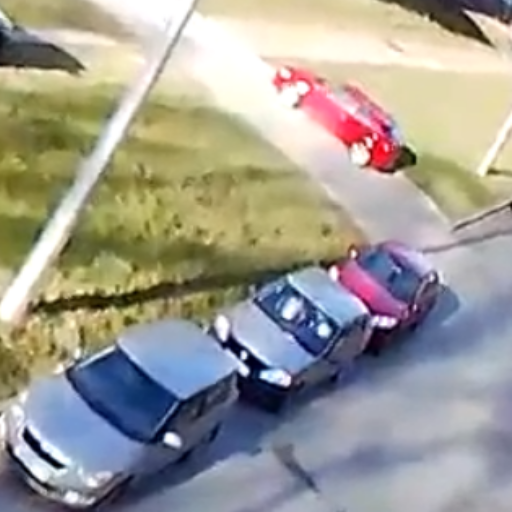Car: (0, 318, 234, 502), (209, 263, 367, 398), (272, 59, 395, 174), (329, 241, 442, 351)
